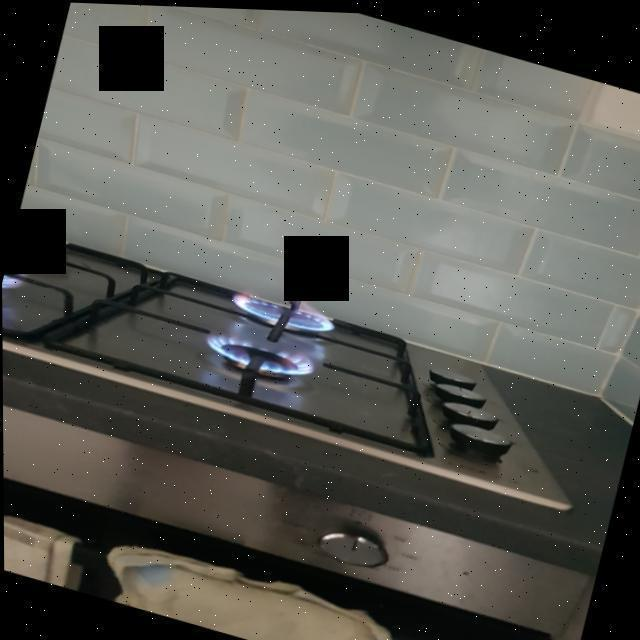Flame: (230, 283, 355, 334), (209, 332, 325, 384)
